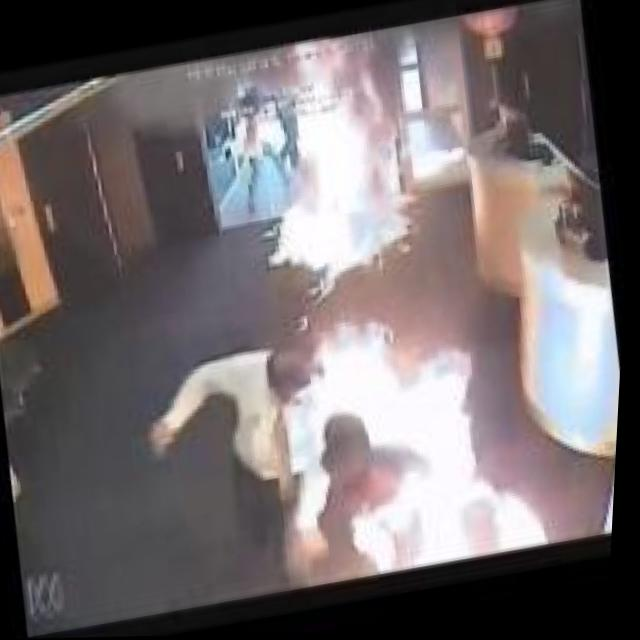fire: (234, 26, 434, 301), (303, 303, 494, 497), (342, 458, 563, 593)
